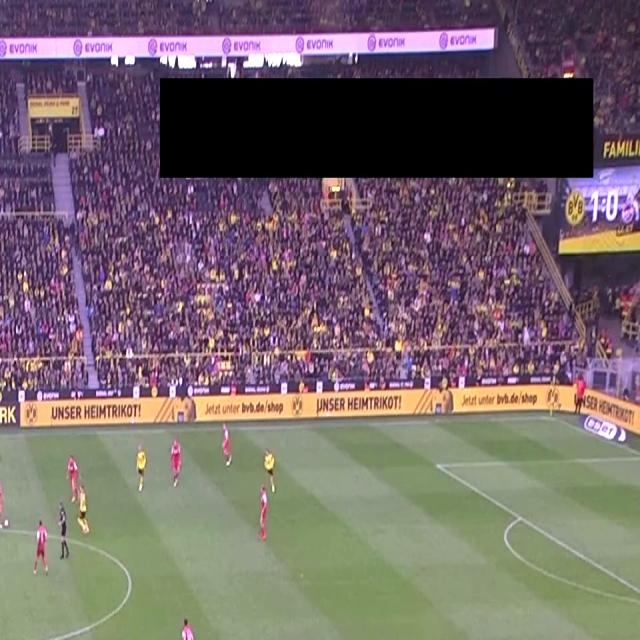ball: (2, 514, 11, 532)
referee: (52, 500, 76, 570)
soccer-player: (32, 518, 57, 583), (73, 478, 95, 543), (130, 443, 154, 499), (254, 478, 273, 544), (168, 434, 190, 491), (216, 419, 236, 474), (261, 443, 282, 488), (173, 612, 205, 640), (0, 400, 10, 468), (0, 477, 11, 537)
